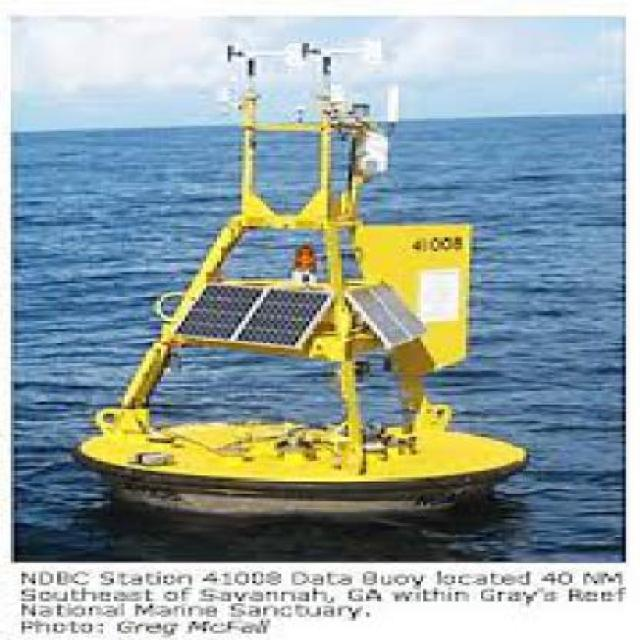buoy: (54, 33, 542, 530)
